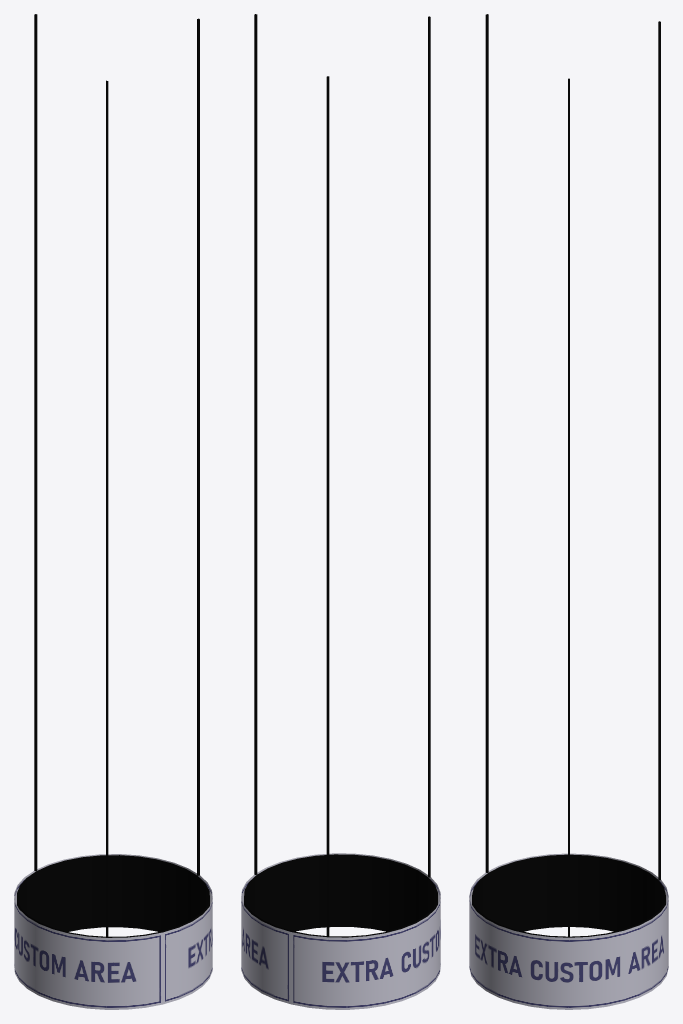
File: stand_lr_top_02.fbx
3 views of the same model, side by side, from view 1: azimuth 30°, elevation 25°; view 2: azimuth 150°, elevation 25°; view 3: azimuth 270°, elevation 25° (orthographic).
Parts seen in each view (by area): view 1: stand_lr_top_02; view 2: stand_lr_top_02; view 3: stand_lr_top_02.
Boxes of the visible parts, x1,y1,x2,y2 form: stand_lr_top_02: (14,14,212,1009); stand_lr_top_02: (241,14,440,1009); stand_lr_top_02: (469,14,668,1009).
Size of the model in its own units: 200 by 1030 by 200.
